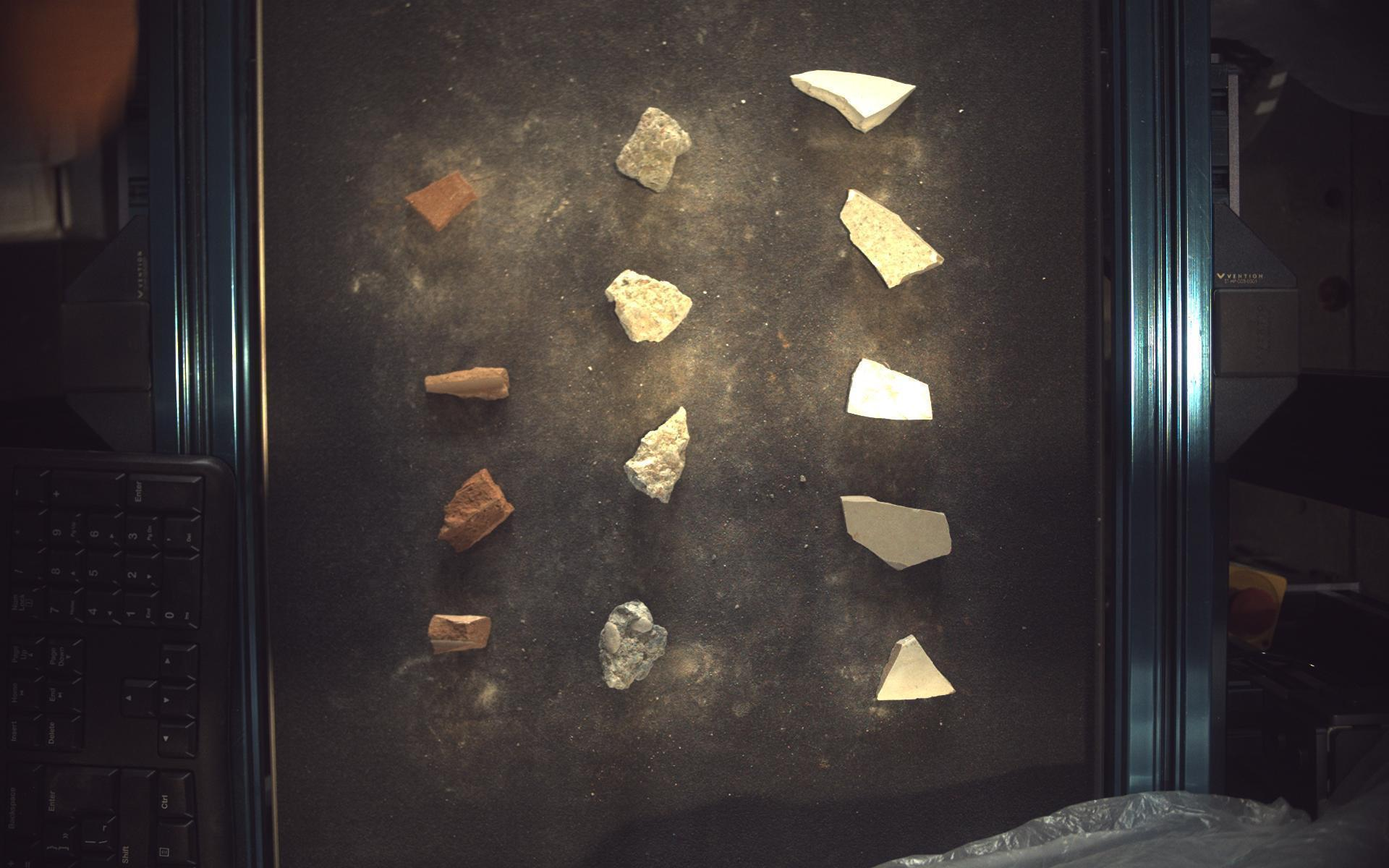brick: (438, 469, 514, 553), (404, 169, 478, 230), (425, 367, 509, 400), (428, 616, 491, 655)
concrete: (617, 106, 692, 192), (606, 269, 693, 342), (625, 407, 690, 503), (600, 601, 668, 691)
tile: (841, 189, 946, 287), (844, 496, 953, 570), (792, 69, 917, 132), (849, 359, 935, 420), (878, 636, 956, 702)
